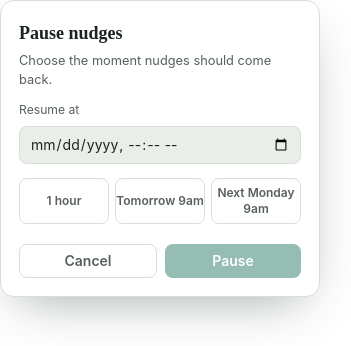
Scenario: CustomPauseDialog › sets the resume time to tomorrow 9am when the 'Tomorrow 9am' preset is clicked
// WHEN the user clicks the "Tomorrow 9am" preset
Click the button "Tomorrow 9am" at x=160, y=201, box [115,178,205,224]
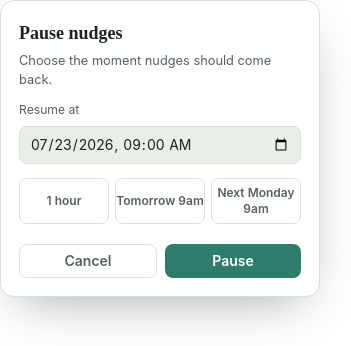
Now the field labelled "Resume at" holds "2026-07-23T09:00", box [19,126,301,164]
